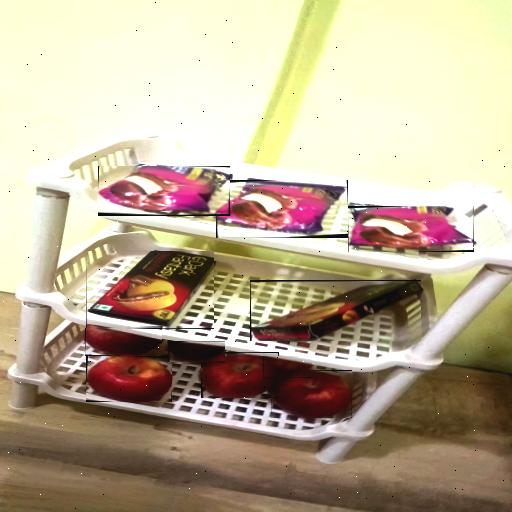Apple: (86, 355, 172, 402), (271, 370, 352, 418), (201, 352, 279, 398), (85, 328, 162, 356), (168, 342, 225, 364), (263, 356, 312, 378)
Choco Fills: (250, 280, 421, 341), (86, 252, 214, 330)
Choco Pie: (216, 180, 348, 238), (98, 166, 230, 216), (348, 206, 474, 252)
